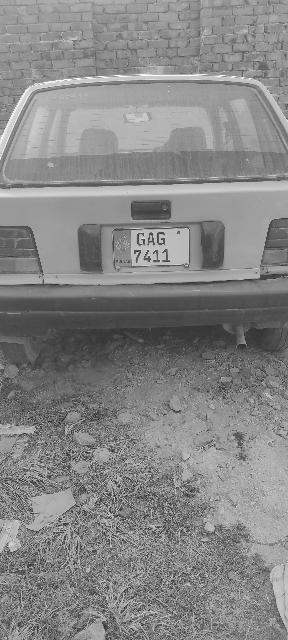Number: (130, 231, 174, 265)
